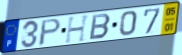0: (118, 10, 139, 37)
3: (21, 19, 40, 50)
7: (142, 7, 162, 35)
B: (88, 13, 112, 41)
H: (64, 14, 92, 45)
P: (37, 18, 63, 48)
